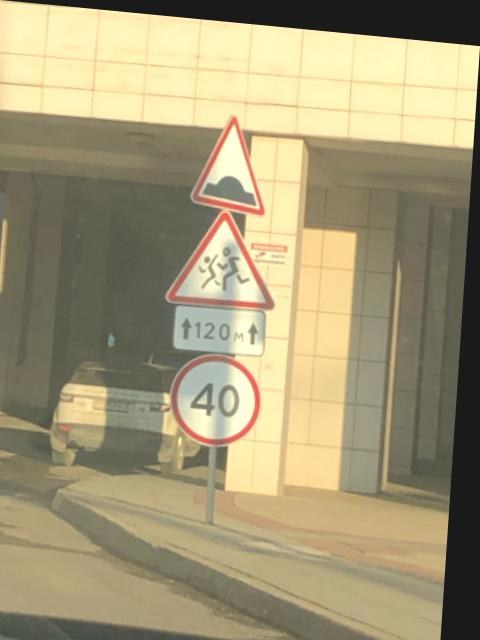limit40: (170, 340, 272, 449)
